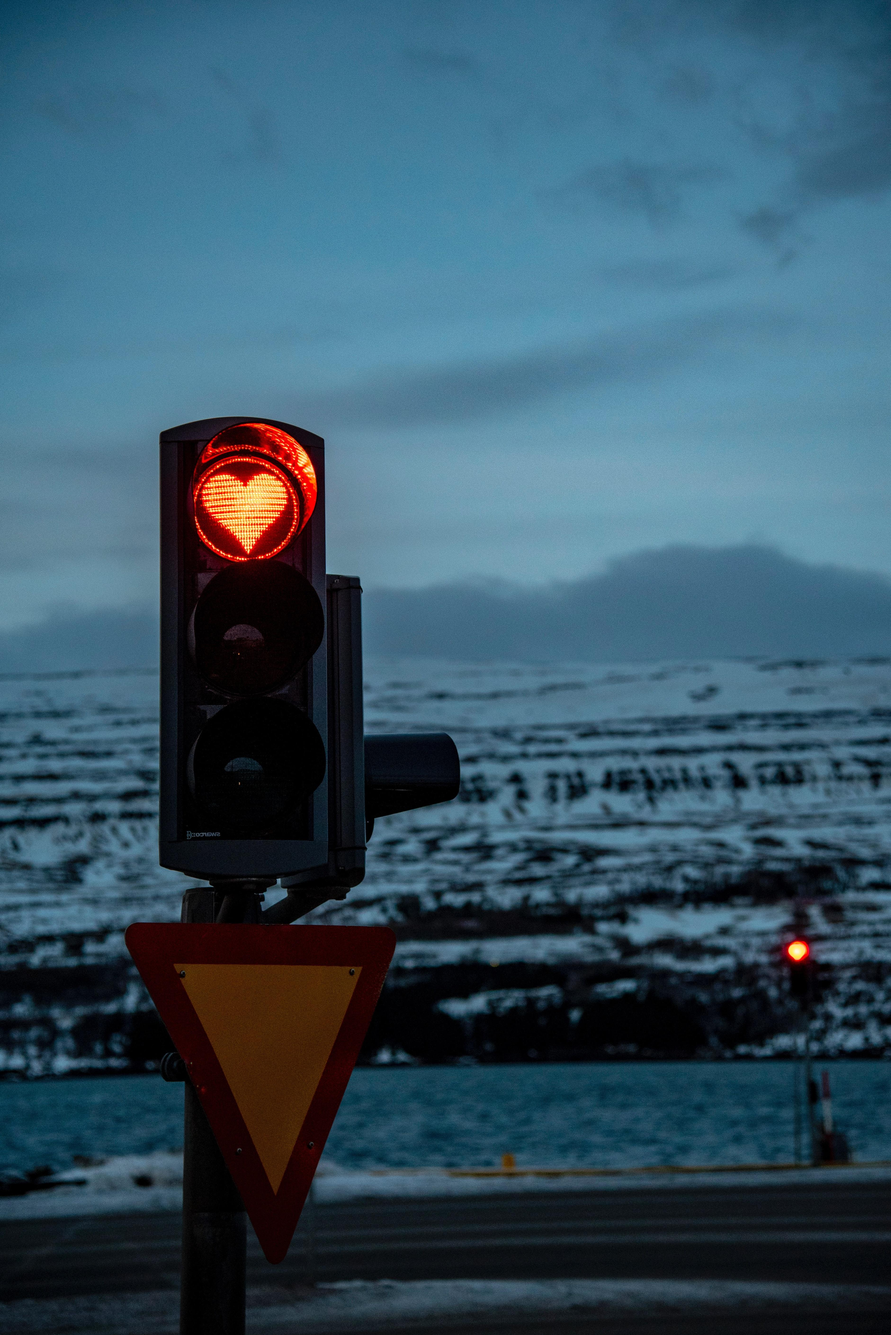red: (130, 400, 358, 893)
